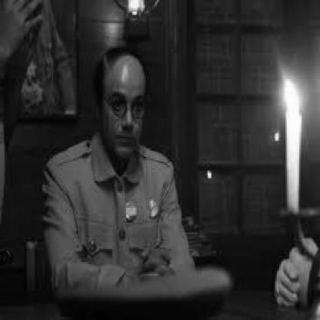Fire: (283, 68, 303, 120)
